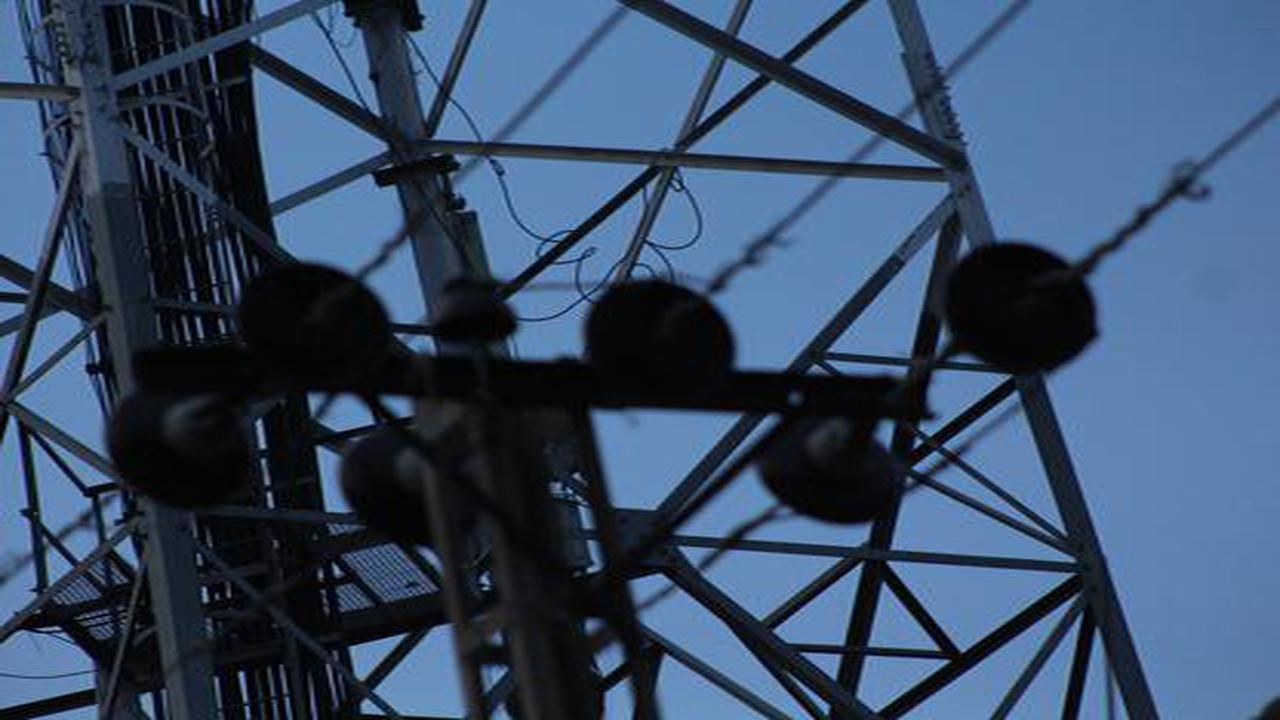insulator_disc: (939, 239, 1107, 385), (577, 277, 748, 408), (231, 266, 409, 391), (102, 393, 262, 515), (756, 412, 913, 527)
insulator_pin: (425, 273, 523, 347)
